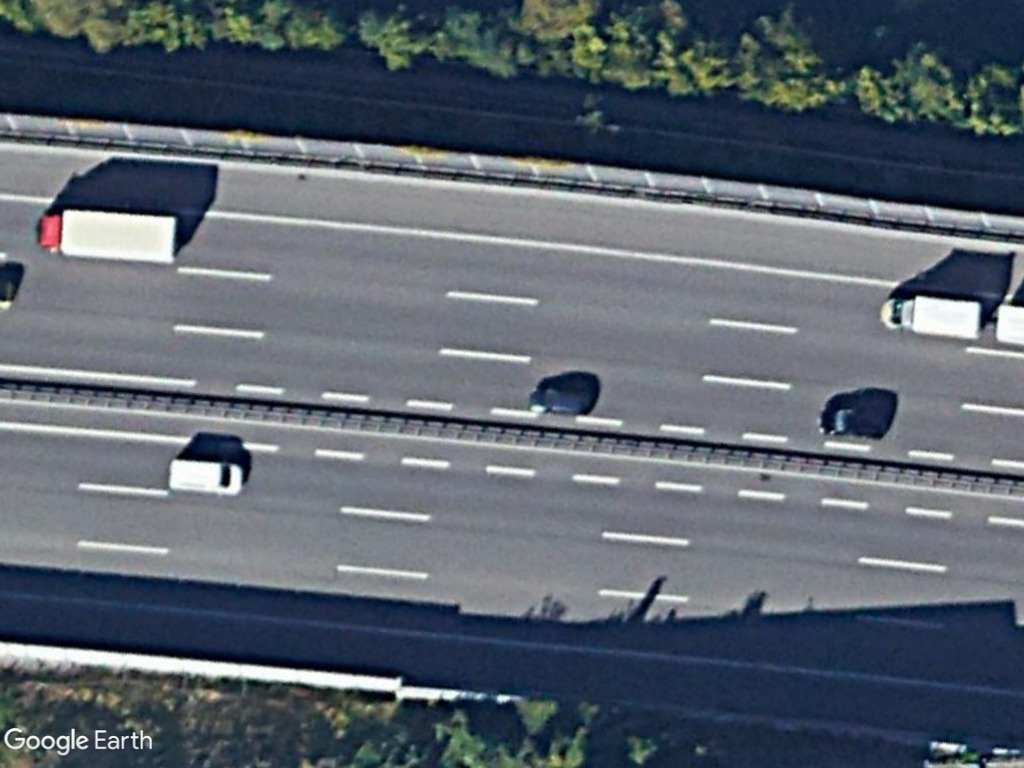truck: (29, 203, 184, 268), (876, 290, 989, 344)
van: (165, 453, 249, 499)
